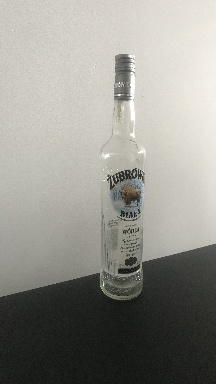butelka: (98, 50, 147, 303)
